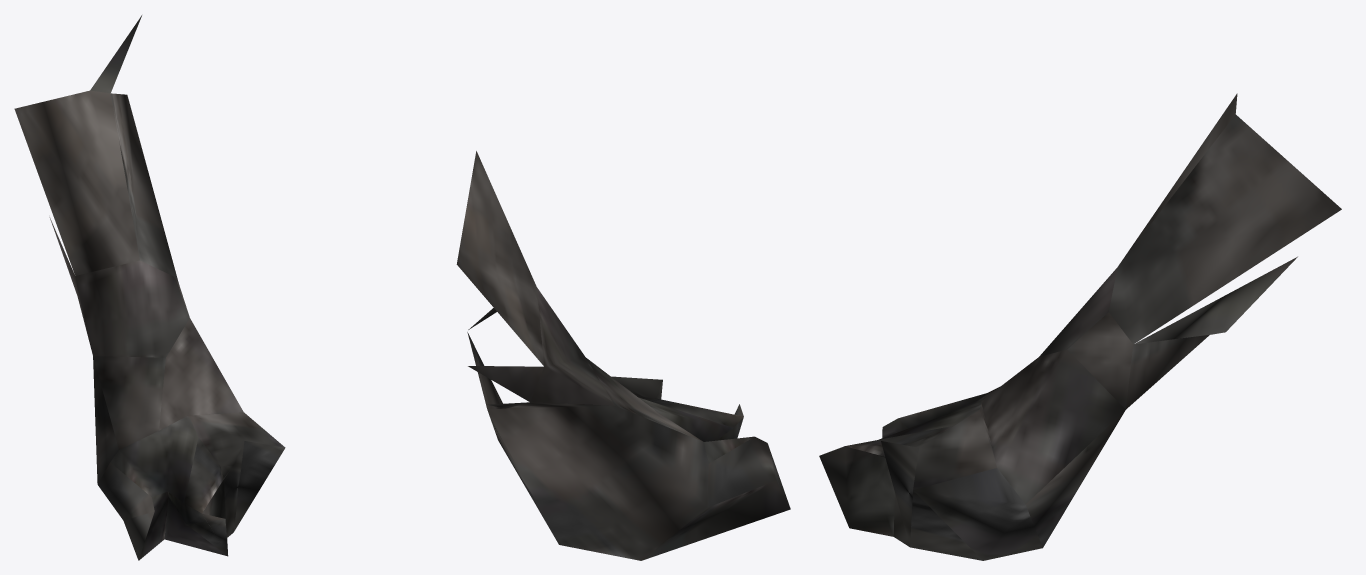
Rendered from hound_leg_fnegx.glb.
The picture shows the model from 3 angles, left to right: view 1: azimuth 30°, elevation 25°; view 2: azimuth 150°, elevation 25°; view 3: azimuth 270°, elevation 25°; orthographic projection. The views are drawn at different scales.
Parts seen in each view (by area): view 1: hound_leg_fnegx; view 2: hound_leg_fnegx; view 3: hound_leg_fnegx.
Part boxes in pixels (x1,y1,x2,y2): hound_leg_fnegx: [14, 15, 285, 560]; hound_leg_fnegx: [456, 151, 790, 560]; hound_leg_fnegx: [819, 93, 1341, 560].
Size of the model in its own units: 0.2937 by 0.7011 by 0.6191.
Materials: 1 (1 with a texture image).
